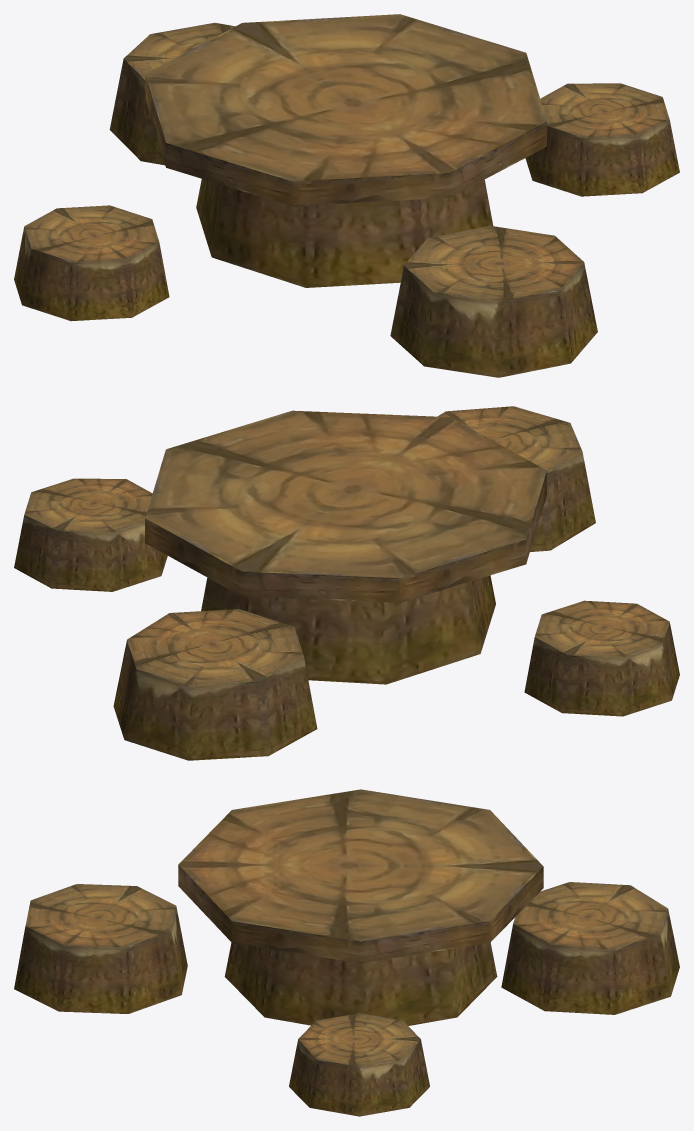
Rendered from Woodtable.FBX.
3 views of the same model, one above another, from view 1: azimuth 30°, elevation 25°; view 2: azimuth 150°, elevation 25°; view 3: azimuth 270°, elevation 25° (orthographic). The views are drawn at different scales.
Visible parts, largest first — view 1: Woodtable; view 2: Woodtable; view 3: Woodtable.
Boxes of the visible parts, bbox=[...] form: Woodtable: bbox=[14, 14, 679, 377]; Woodtable: bbox=[14, 406, 679, 760]; Woodtable: bbox=[14, 789, 679, 1116].
Bounding box in the file's own units: 267 × 50.65 × 270.
1 material, 1 textured.
